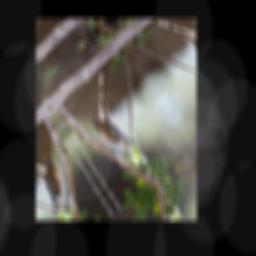Cuckoo: (65, 67, 148, 172)
